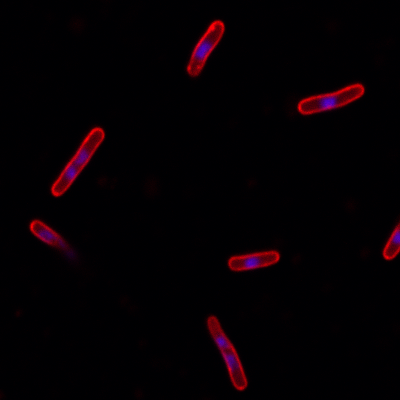Nalidixate: (49, 125, 107, 197), (205, 314, 250, 391), (185, 20, 226, 78), (296, 83, 366, 115), (225, 248, 281, 271)
Oblique: (29, 219, 79, 261)
